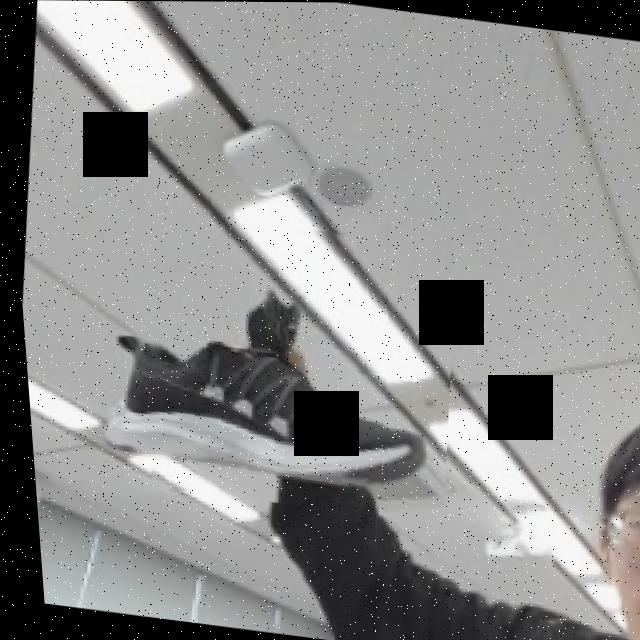shoe: (120, 204, 469, 524)
